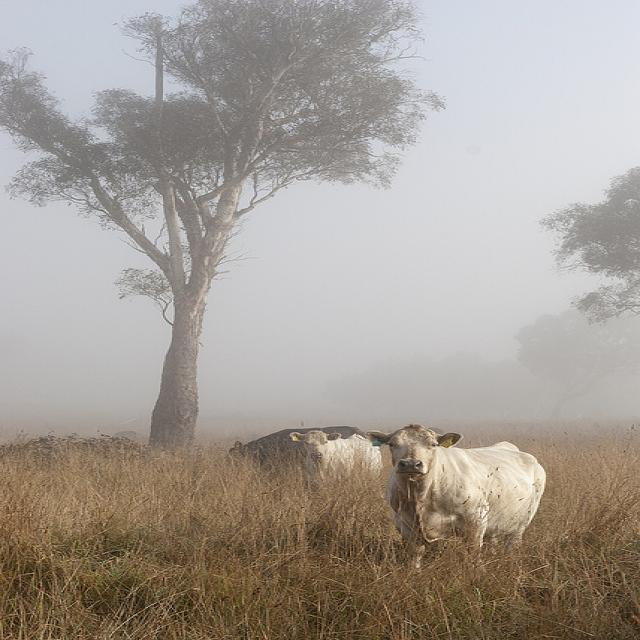cow: (362, 422, 546, 577), (226, 426, 356, 465), (287, 428, 381, 471)
